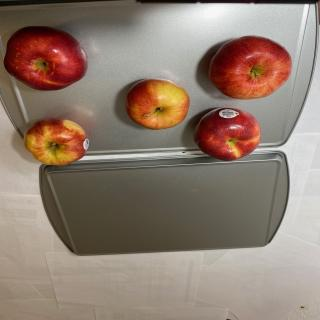Apple: (3, 25, 88, 91), (208, 35, 292, 100), (193, 107, 261, 161), (125, 78, 190, 130), (23, 118, 89, 166)
